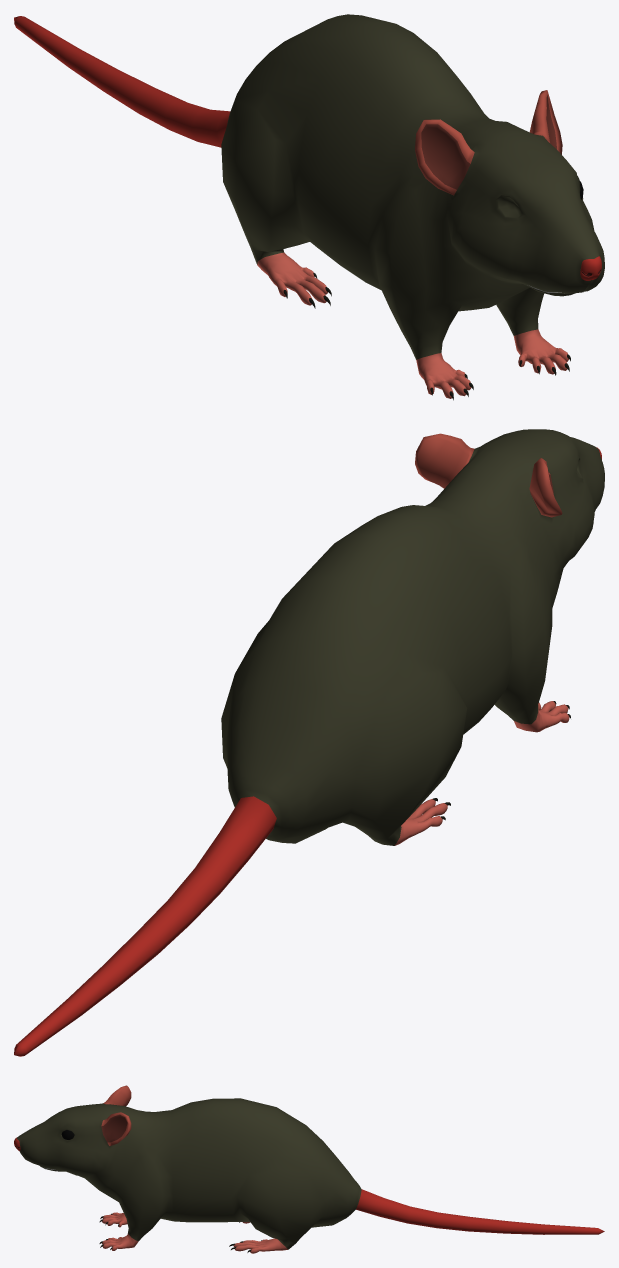
The model's file is rat.obj.
The picture shows the model from 3 angles, top to bottom: view 1: azimuth 30°, elevation 25°; view 2: azimuth 150°, elevation 25°; view 3: azimuth 270°, elevation 25°; orthographic projection. The views are drawn at different scales.
Parts seen in each view (by area): view 1: rat; view 2: rat; view 3: rat.
Boxes of the visible parts, box(x1,y1,x2,y2) form: rat: box(14, 14, 604, 400); rat: box(14, 429, 604, 1056); rat: box(14, 1085, 604, 1253).
Bounding box in the file's own units: 0.0896 × 0.1116 × 0.4428.
